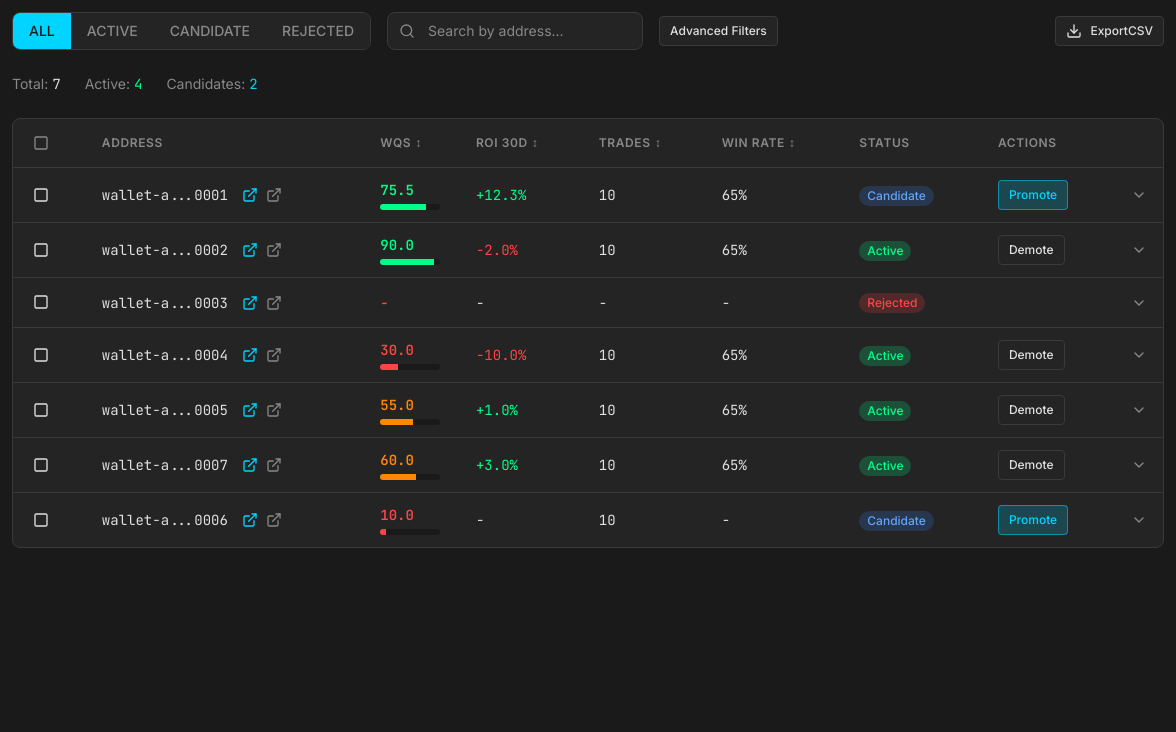
Wallets › selects all wallets and toggles selections
Click the button without text next to "Address" at (41, 143), box [29,131,53,155]
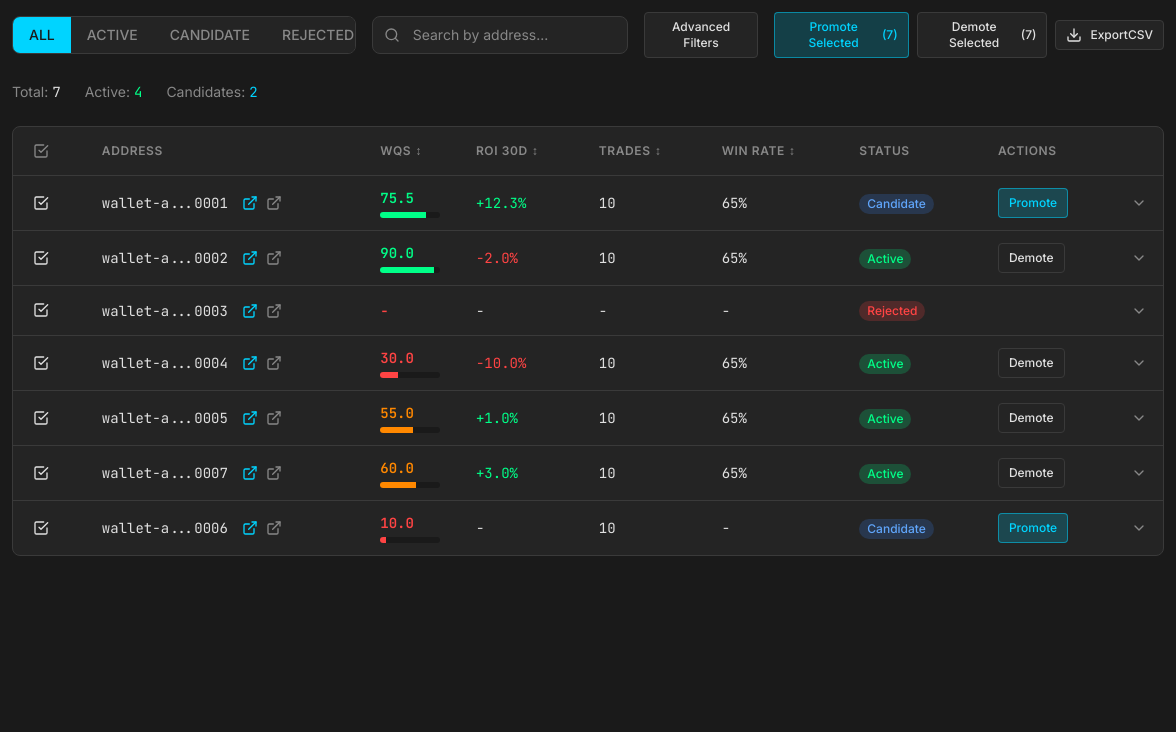
expect the text "Promote Selected" is shown: met, box [808,19,859,50]
Click the button without text next to "Address" at (41, 151), box [29,139,53,163]
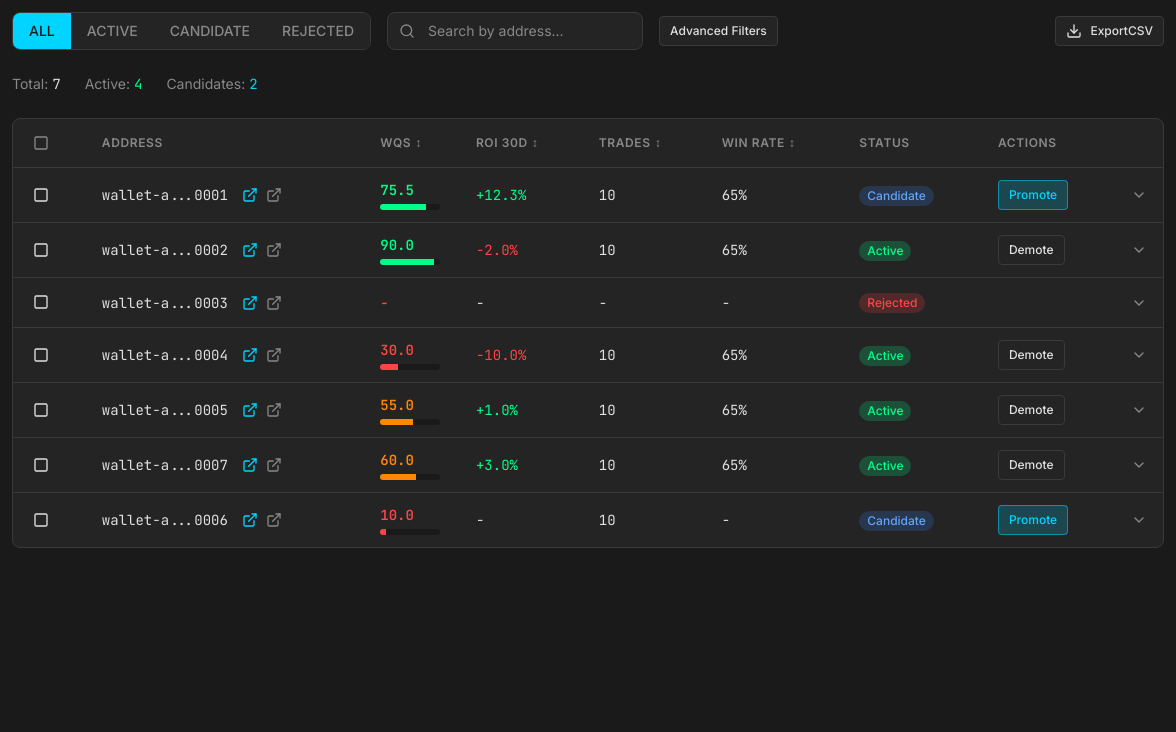
expect the button "Promote Selected" is gone: met
